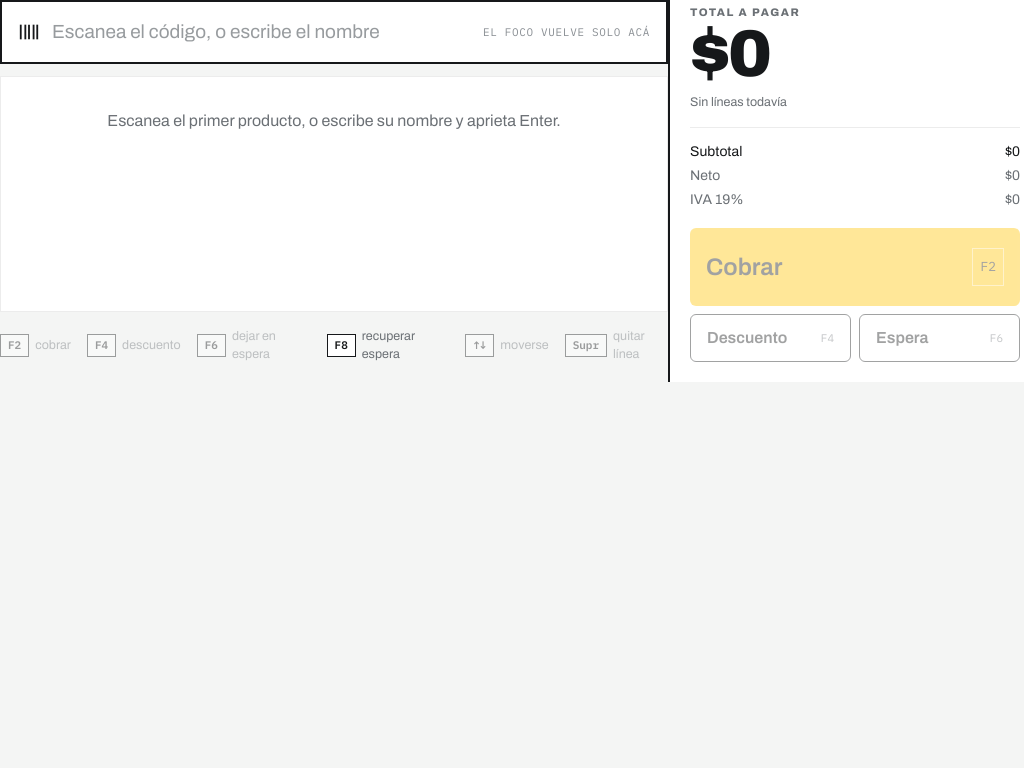
Test: pagando en efectivo › el campo ignora lo que no sea dígito
Step 1. Type "FH-00010" into the dropdown → (262, 32), box [52,18,471,46]
Then press Enter
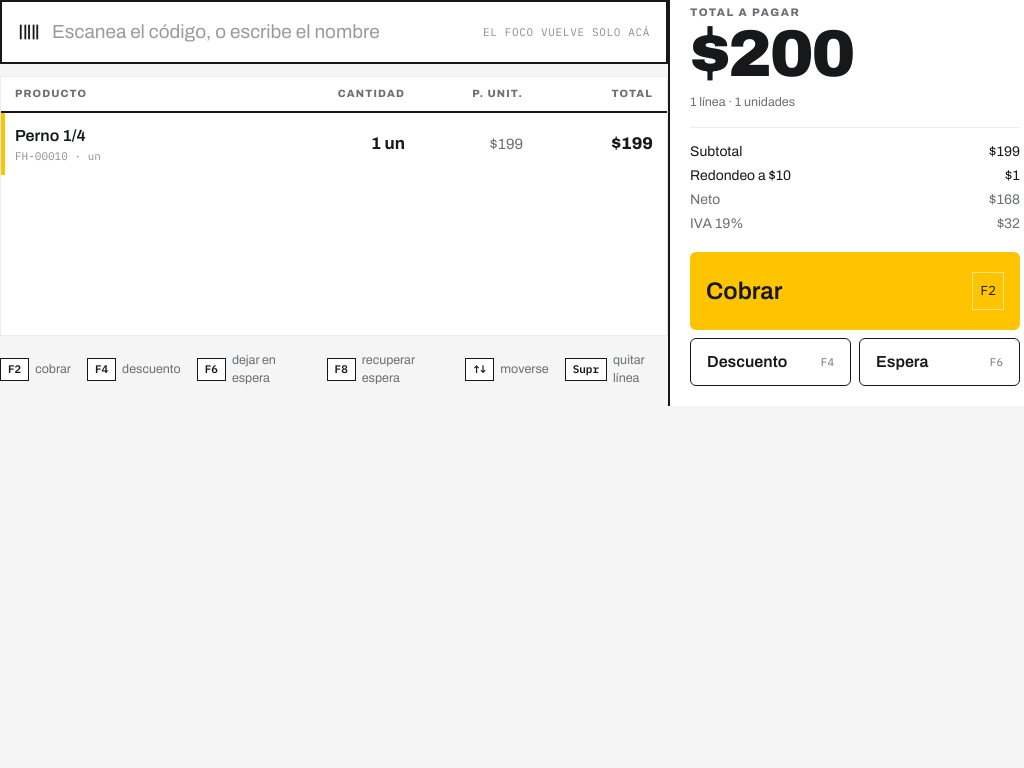
Check: the table is shown, box [1,77,667,175]
Step 2. Press F2
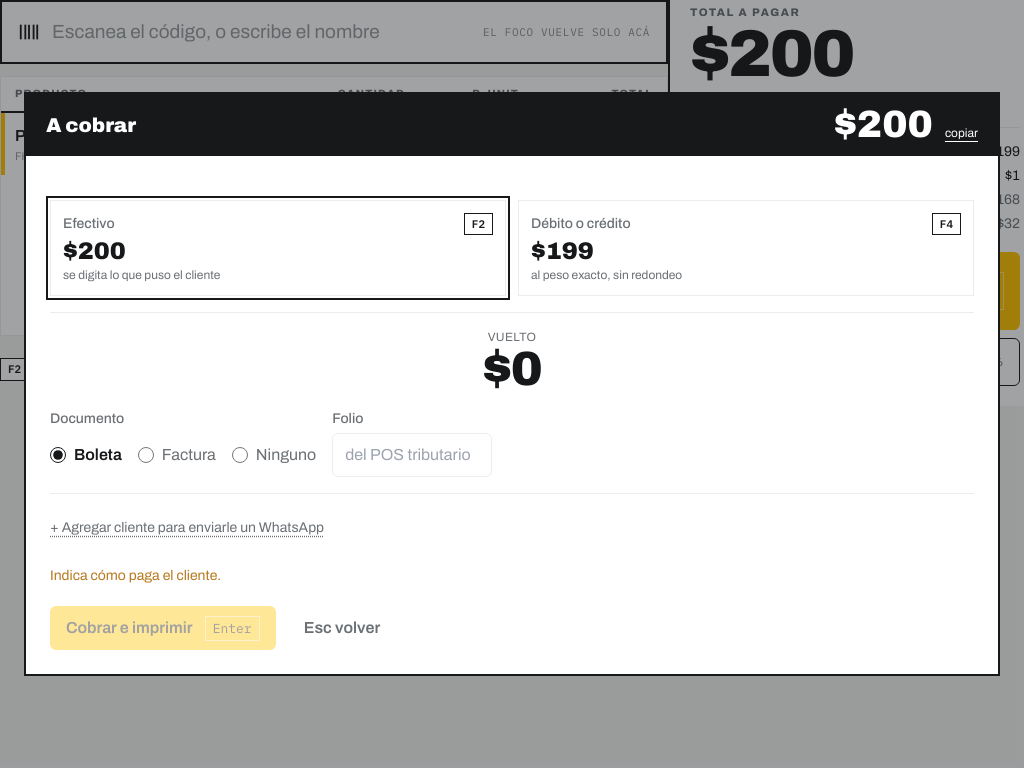
Check: the dialog is shown
Step 3. Click the button "Efectivo F2 $200 se digita lo que puso el cliente" → (89, 224), box [50,200,506,296]
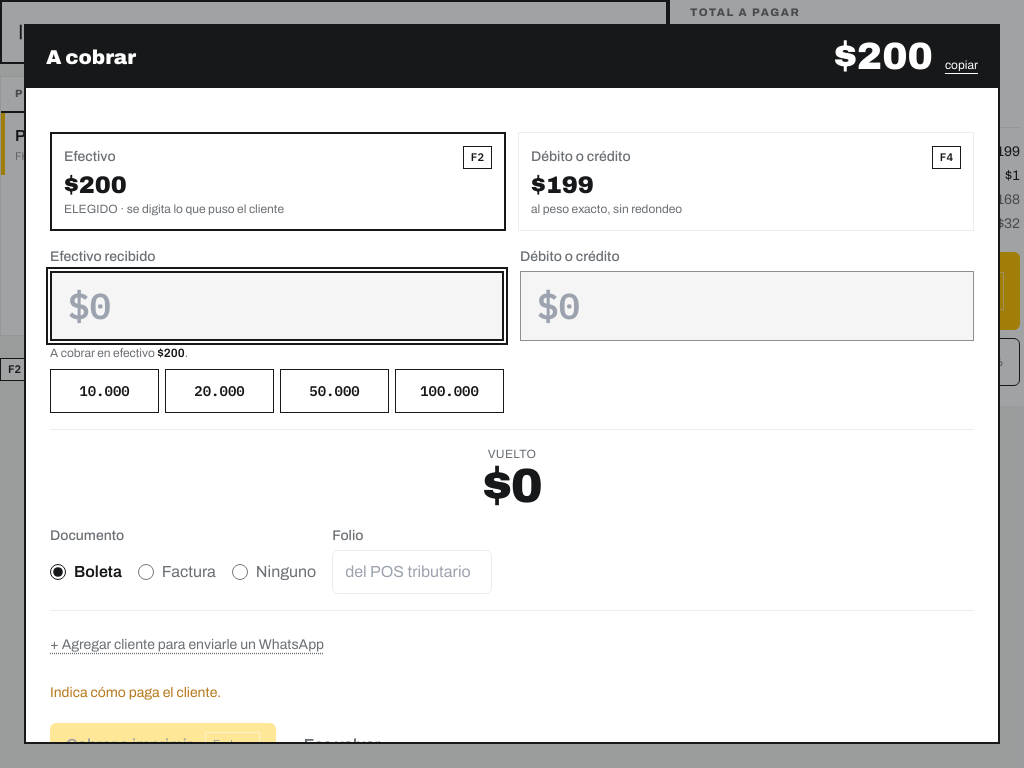
Step 4. Type "1a0b0c0" into the field labelled "Efectivo recibido" → (277, 306), box [50,270,504,340]
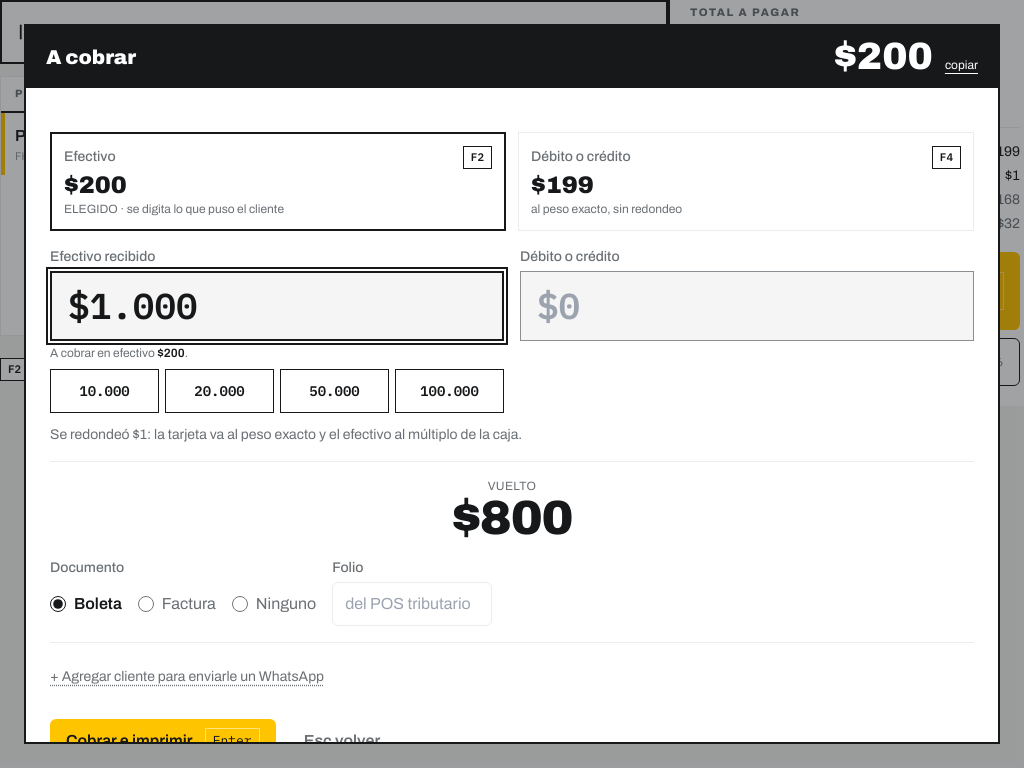
Check: the field labelled "Efectivo recibido" holds "$1.000", box [50,270,504,340]
